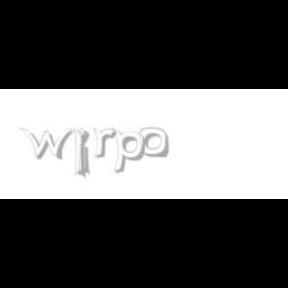i: (77, 128, 93, 176)
l: (74, 128, 90, 180)
o: (140, 128, 168, 158)
p: (112, 128, 150, 174)
r: (92, 128, 120, 158)
w: (20, 128, 78, 160)
